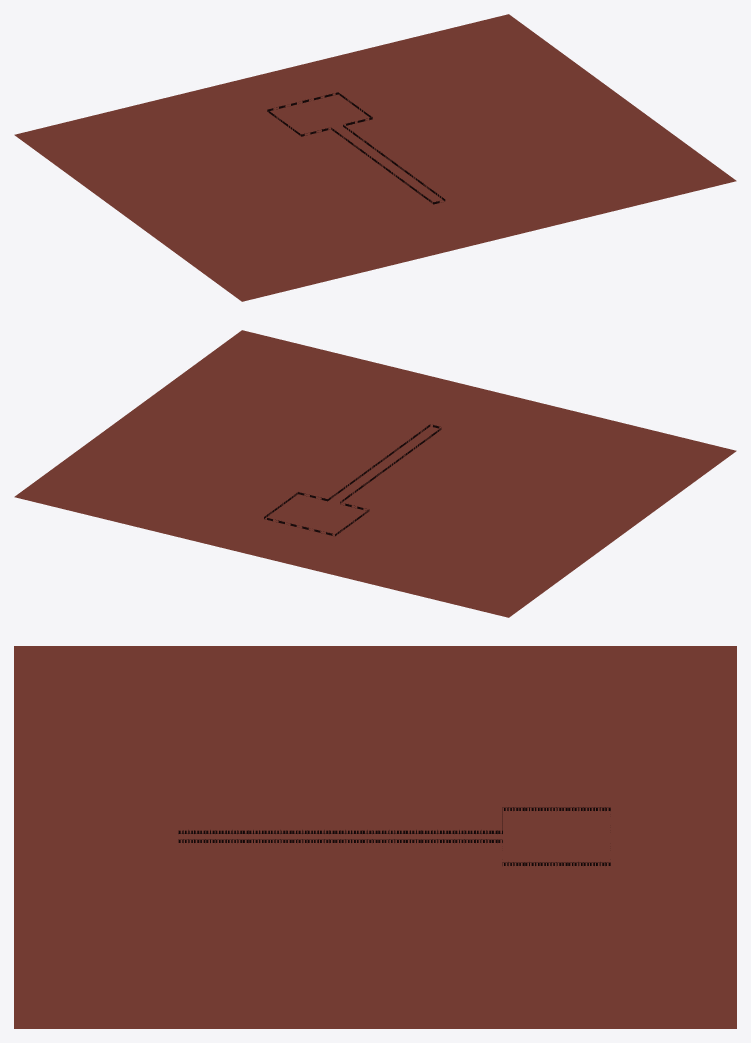
File: MODEL_Level1.fbx
The picture shows the model from 3 angles, top to bottom: view 1: azimuth 30°, elevation 25°; view 2: azimuth 150°, elevation 25°; view 3: azimuth 270°, elevation 25°; orthographic projection. The views are drawn at different scales.
Visible parts, largest first — view 1: Cube, Cube.004; view 2: Cube, Cube.004; view 3: Cube, Cube.004, Cube.005.
Boxes of the visible parts, bbox=[...] form: Cube: bbox=[14, 14, 736, 301]; Cube.004: bbox=[331, 125, 445, 203]; Cube: bbox=[14, 330, 736, 617]; Cube.004: bbox=[328, 424, 441, 503]; Cube: bbox=[14, 646, 736, 1028]; Cube.004: bbox=[178, 830, 502, 842]; Cube.005: bbox=[502, 807, 610, 865].
Size of the model in its own units: 10101 by 55.49 by 8064.
